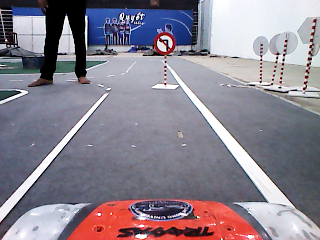ban: (153, 31, 177, 55)
